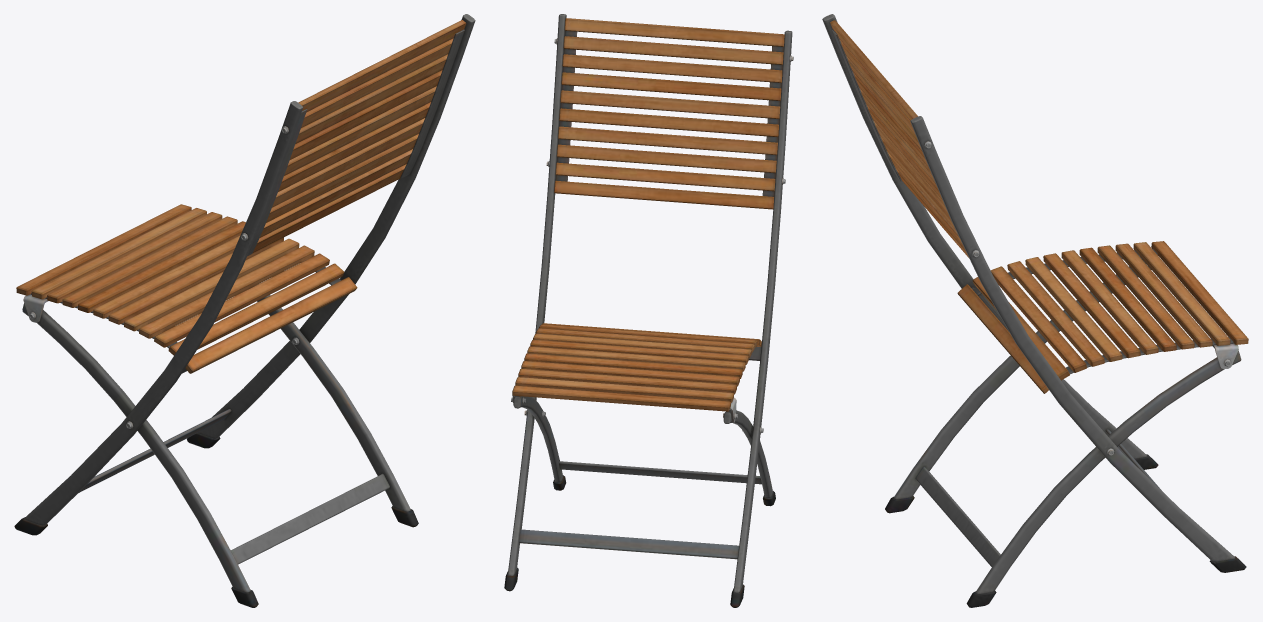
The model's file is outdoor-chair-lod0.glb.
3 views of the same model, side by side, from view 1: azimuth 30°, elevation 25°; view 2: azimuth 150°, elevation 25°; view 3: azimuth 270°, elevation 25° (orthographic). The views are drawn at different scales.
Parts seen in each view (by area): view 1: outdoor_table_chair_set_01_chair_01; view 2: outdoor_table_chair_set_01_chair_01; view 3: outdoor_table_chair_set_01_chair_01.
Part boxes in pixels (bbox=[...]): outdoor_table_chair_set_01_chair_01: bbox=[14, 14, 475, 607]; outdoor_table_chair_set_01_chair_01: bbox=[504, 14, 793, 607]; outdoor_table_chair_set_01_chair_01: bbox=[822, 14, 1248, 607].
Size of the model in its own units: 0.5741 by 0.8586 by 0.6612.
1 material, 1 textured.
